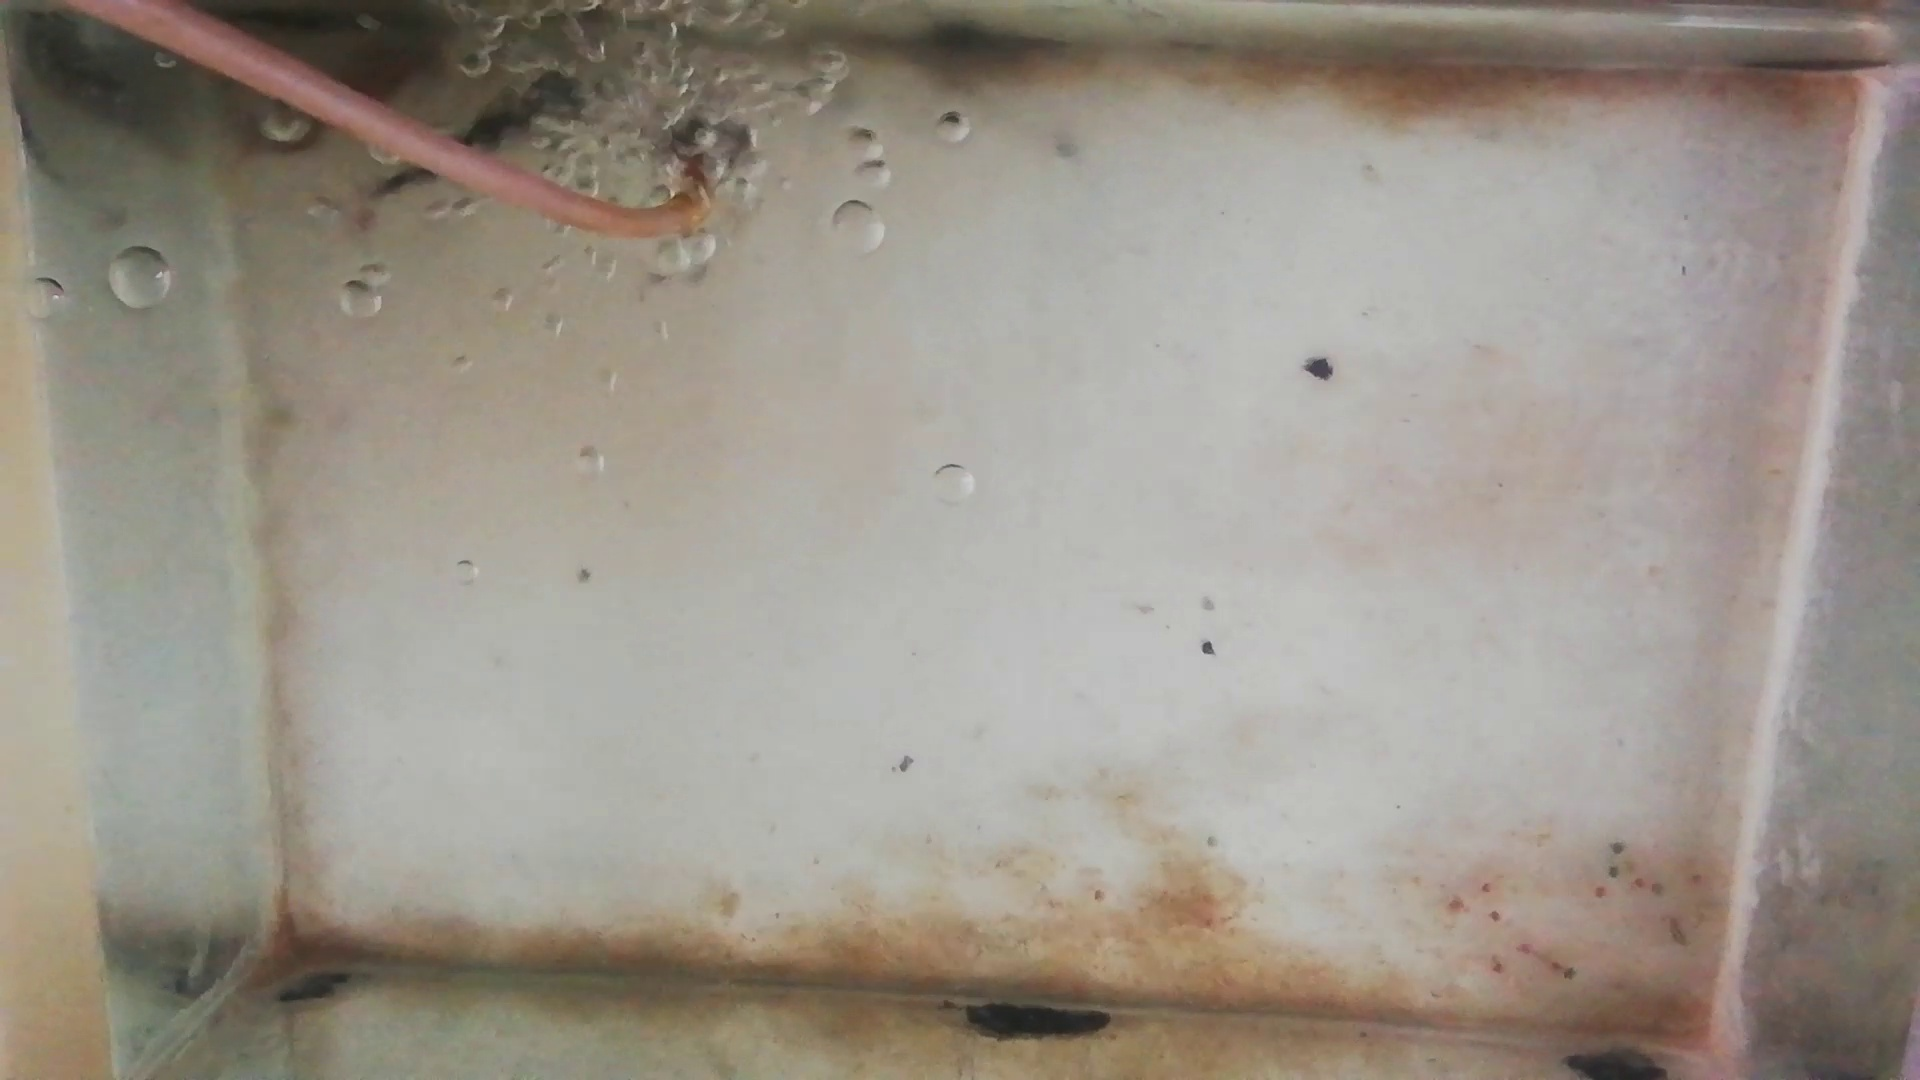fish: (390, 69, 584, 189), (255, 45, 419, 138)
